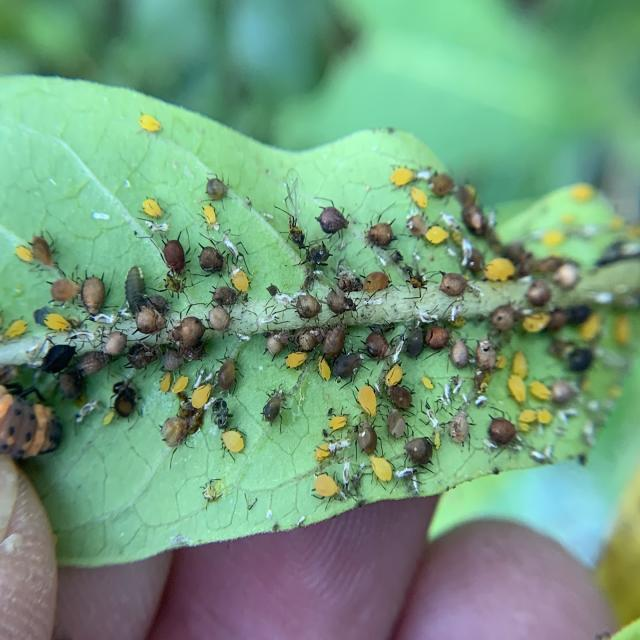Aphid-Grouped-: (3, 147, 596, 495)
Aphid-Grown-: (441, 398, 481, 453), (484, 403, 521, 456), (357, 208, 401, 252), (157, 225, 193, 276), (108, 378, 145, 427), (37, 336, 80, 378), (313, 193, 352, 239), (157, 406, 190, 460), (77, 263, 107, 322), (193, 235, 230, 282), (44, 266, 84, 309), (306, 465, 344, 509), (435, 266, 483, 300), (168, 310, 210, 348), (212, 345, 242, 396), (353, 413, 385, 460), (364, 448, 397, 493), (400, 430, 435, 471), (121, 261, 147, 315), (202, 167, 236, 208), (258, 384, 288, 430), (119, 342, 162, 374), (93, 326, 129, 364), (324, 280, 356, 322), (133, 105, 168, 143), (205, 300, 240, 338), (399, 320, 432, 360), (134, 190, 171, 225), (132, 304, 169, 338), (352, 372, 379, 418), (227, 262, 258, 302), (360, 324, 391, 363), (215, 425, 248, 461), (29, 225, 57, 264), (422, 319, 454, 353), (384, 404, 412, 442), (444, 331, 472, 369), (291, 290, 323, 322), (377, 358, 408, 391), (384, 384, 420, 412), (311, 349, 336, 389), (39, 310, 74, 338), (206, 286, 242, 312), (505, 369, 529, 408), (359, 268, 392, 296), (320, 402, 350, 432), (422, 215, 451, 246), (325, 323, 353, 355), (198, 198, 223, 232), (187, 383, 213, 415), (388, 160, 416, 188), (148, 288, 172, 320), (281, 344, 310, 370), (264, 329, 287, 361), (312, 435, 338, 463), (12, 238, 34, 271), (416, 366, 440, 396), (4, 315, 30, 342), (168, 373, 191, 397), (154, 370, 172, 397)
Aphid-Grown-have wings-: (276, 168, 311, 254)
